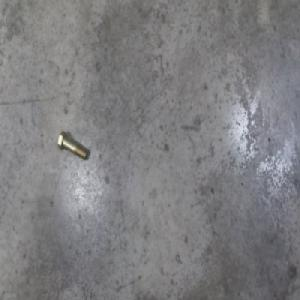Bolt: (58, 129, 88, 161)
